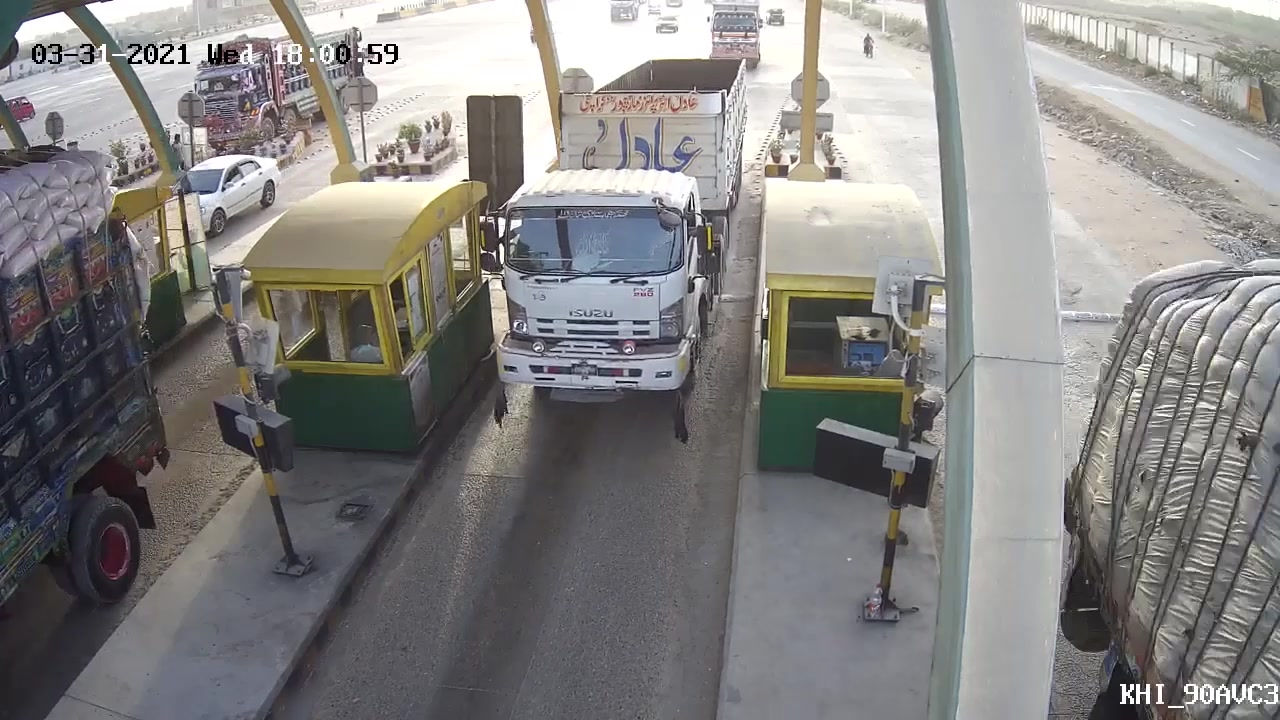F6: (483, 47, 754, 417)
